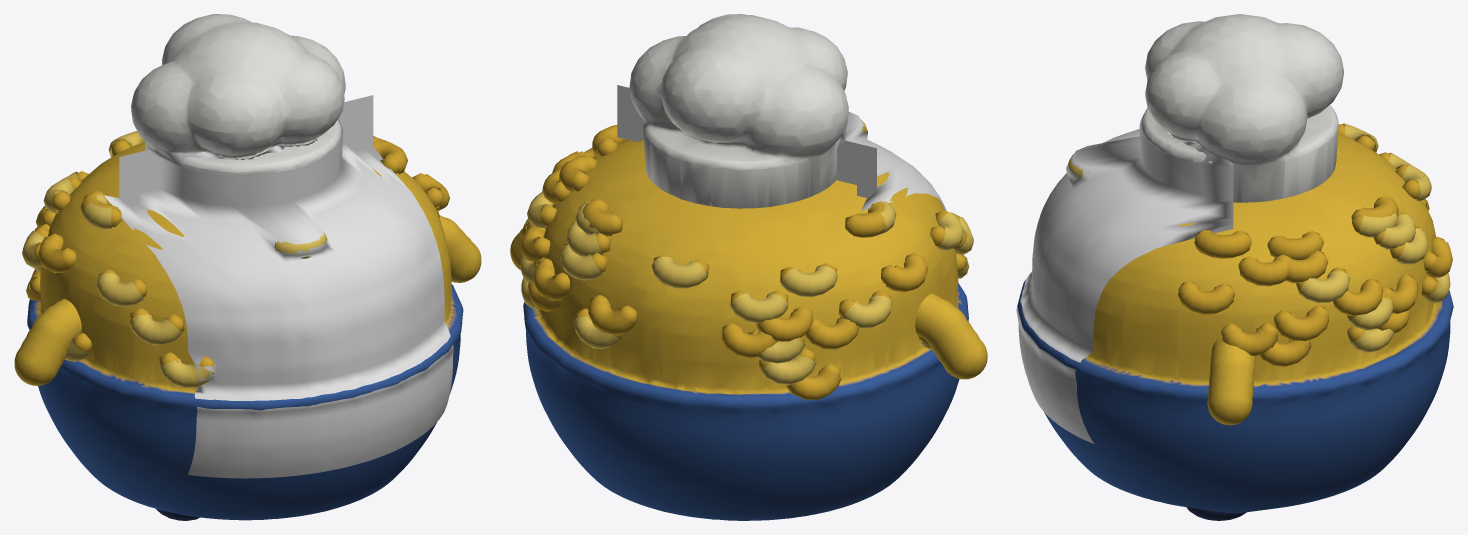
The model's file is folk2_mac.glb.
3 renders of one model, left to right at view 1: azimuth 30°, elevation 25°; view 2: azimuth 150°, elevation 25°; view 3: azimuth 270°, elevation 25°, orthographic. The views are drawn at different scales.
Visible parts, largest first — view 1: mac_body, mac_face, mac_arm_l, mac_arm_r; view 2: mac_body, mac_face, mac_arm_l; view 3: mac_body, mac_face, mac_arm_r.
Part boxes in pixels (<box>): mac_body: <box>22,14,463,520</box>; mac_face: <box>104,95,453,478</box>; mac_arm_l: <box>14,298,81,385</box>; mac_arm_r: <box>439,215,481,282</box>; mac_body: <box>520,14,973,520</box>; mac_face: <box>617,85,946,210</box>; mac_arm_l: <box>915,293,987,379</box>; mac_body: <box>1017,14,1453,513</box>; mac_face: <box>1016,115,1233,443</box>; mac_arm_r: <box>1207,337,1255,425</box>.
Size of the model in its own units: 1.26 by 1.2 by 1.04.
